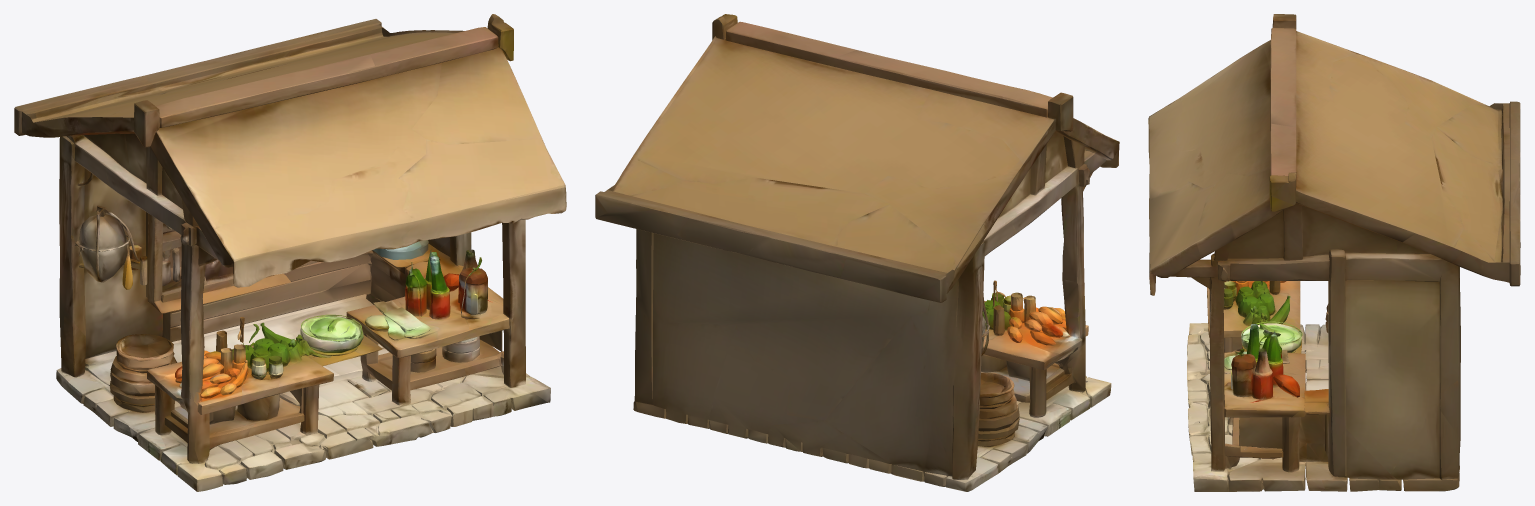
The picture shows the model from 3 angles, left to right: view 1: azimuth 30°, elevation 25°; view 2: azimuth 150°, elevation 25°; view 3: azimuth 270°, elevation 25°; orthographic projection. The views are drawn at different scales.
Parts seen in each view (by area): view 1: model; view 2: model; view 3: model.
Part boxes in pixels (<box>): model: <box>14,14,566,491</box>; model: <box>595,14,1119,491</box>; model: <box>1148,14,1520,491</box>.
Size of the model in its own units: 1.9 by 1.73 by 1.82.
Materials: 1 (1 with a texture image).
